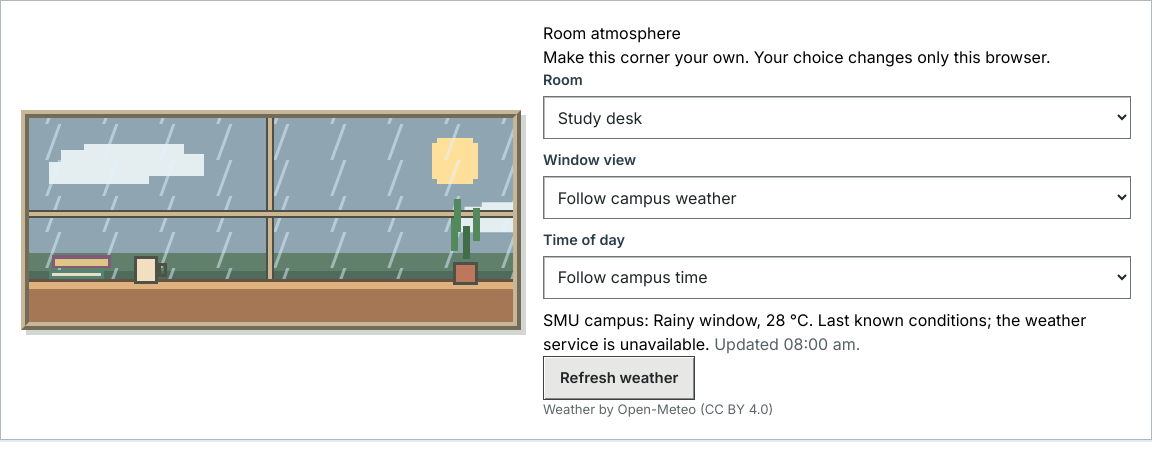
labels live versus last-known data and keeps selectable themes available after provider failure
The width and height of the screenshot is (1152, 459).
Expected: the text "Last known conditions" is shown, [543,310,1086,354]
Select "Clear skies" in the dropdown labelled "Window view" at (837, 198), box [543,176,1131,219]
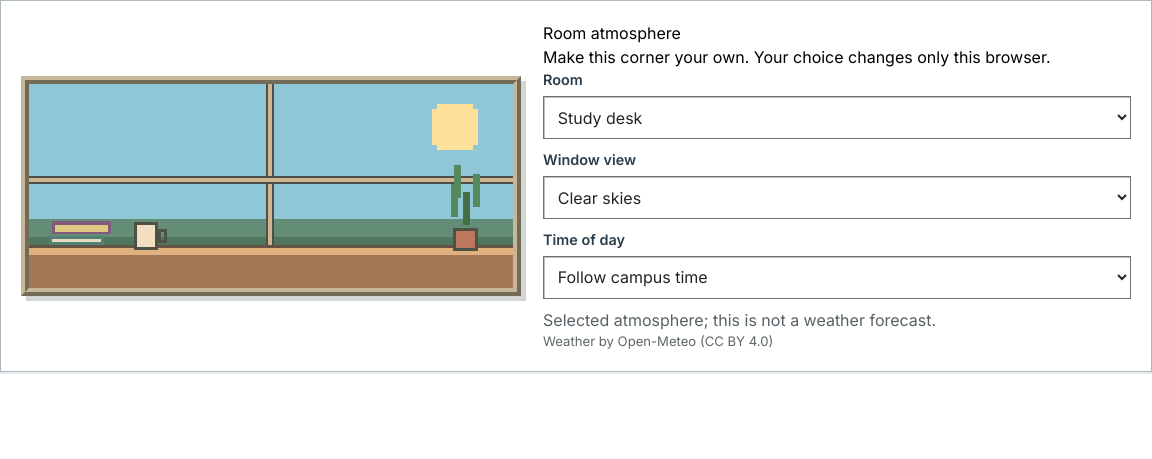
Expected: the text "Selected atmosphere; this is not a weather forecast." is shown, [543,310,936,330]
